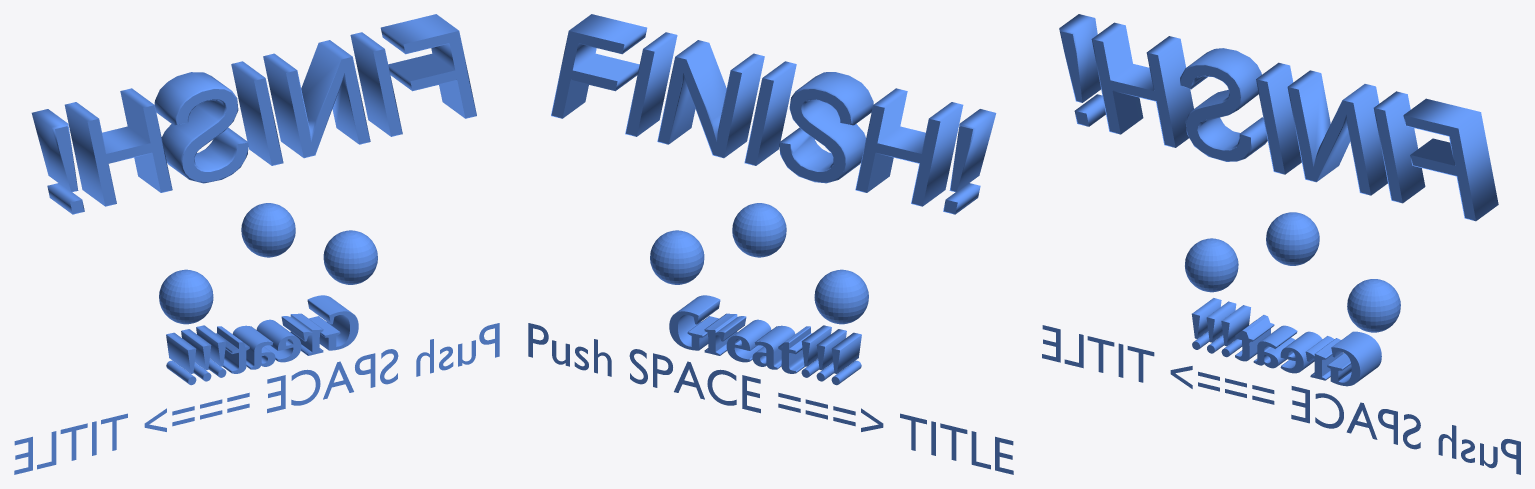
Rendered from Finish.obj.
The picture shows the model from 3 angles, left to right: view 1: azimuth 30°, elevation 25°; view 2: azimuth 150°, elevation 25°; view 3: azimuth 330°, elevation 25°; orthographic projection.
Visible parts, largest first — view 1: テキスト, テキスト.002, テキスト.001, 球.001, 球.002, 球; view 2: テキスト, テキスト.002, テキスト.001, 球.001, 球.002, 球; view 3: テキスト, テキスト.002, テキスト.001, 球, 球.001, 球.002.
Boxes of the visible parts, <box> form: テキスト: <box>31,14,476,214</box>; テキスト.002: <box>166,295,358,385</box>; テキスト.001: <box>14,323,499,474</box>; 球.001: <box>159,269,213,324</box>; 球.002: <box>323,230,377,284</box>; 球: <box>241,203,295,257</box>; テキスト: <box>551,14,996,214</box>; テキスト.002: <box>669,295,861,385</box>; テキスト.001: <box>528,323,1013,474</box>; 球.001: <box>814,269,868,324</box>; 球.002: <box>650,230,704,284</box>; 球: <box>732,203,786,257</box>; テキスト: <box>1059,14,1498,221</box>; テキスト.002: <box>1191,298,1381,386</box>; テキスト.001: <box>1042,325,1520,474</box>; 球: <box>1266,212,1319,265</box>; 球.001: <box>1185,238,1238,292</box>; 球.002: <box>1347,279,1400,332</box>.
Size of the model in its own units: 30.77 by 21.22 by 3.
6 materials, 6 textured.
